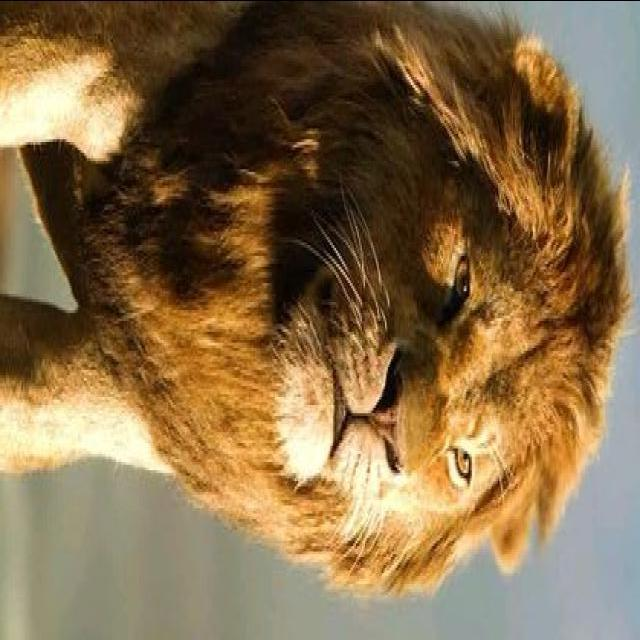lions: (0, 0, 632, 615)
